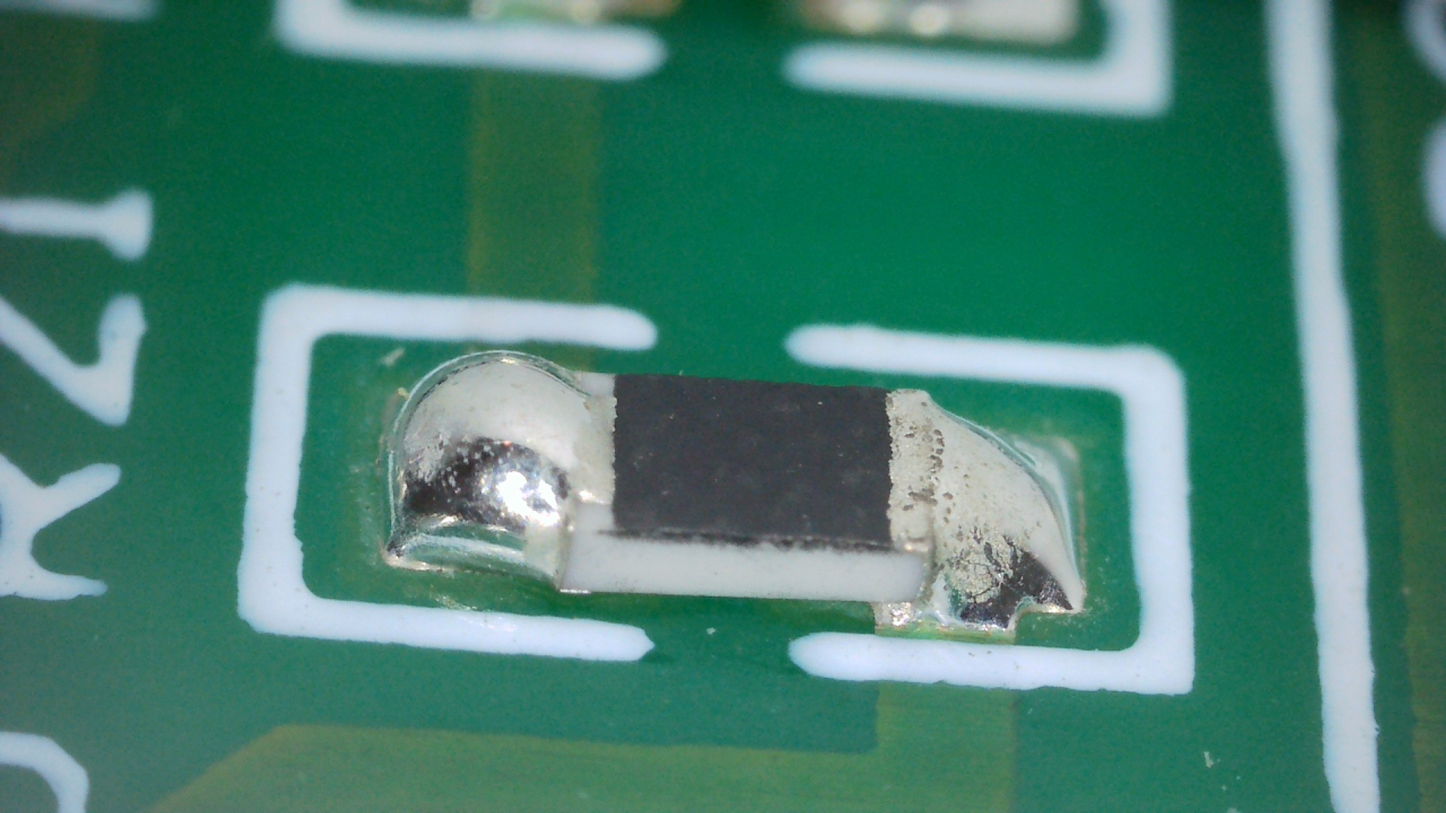NG: (386, 352, 614, 591), (869, 390, 1085, 631)
